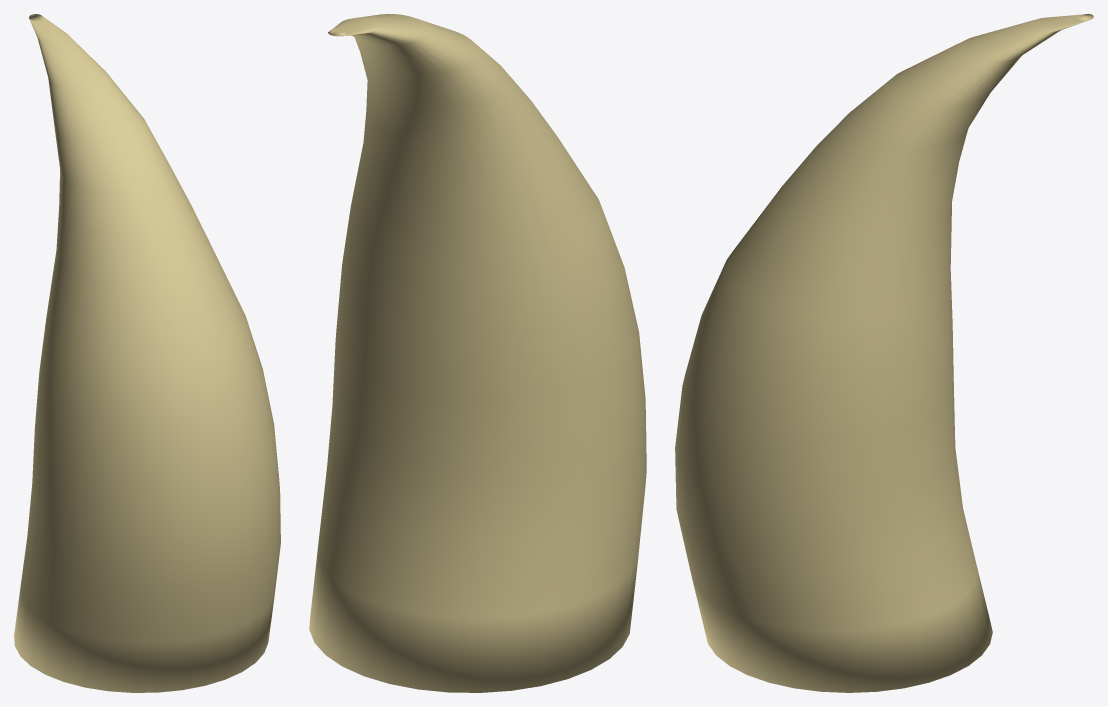
File: teeth.obj
3 views of the same model, side by side, from view 1: azimuth 30°, elevation 25°; view 2: azimuth 150°, elevation 25°; view 3: azimuth 270°, elevation 25° (orthographic). The views are drawn at different scales.
Visible parts, largest first — view 1: 円柱; view 2: 円柱; view 3: 円柱.
Boxes of the visible parts, x1,y1,x2,y2 form: 円柱: (14,14,280,692); 円柱: (309,14,646,692); 円柱: (675,14,1093,692).
Bounding box in the file's own units: 2.12 × 5 × 3.09.
Materials: 1 (1 with a texture image).
